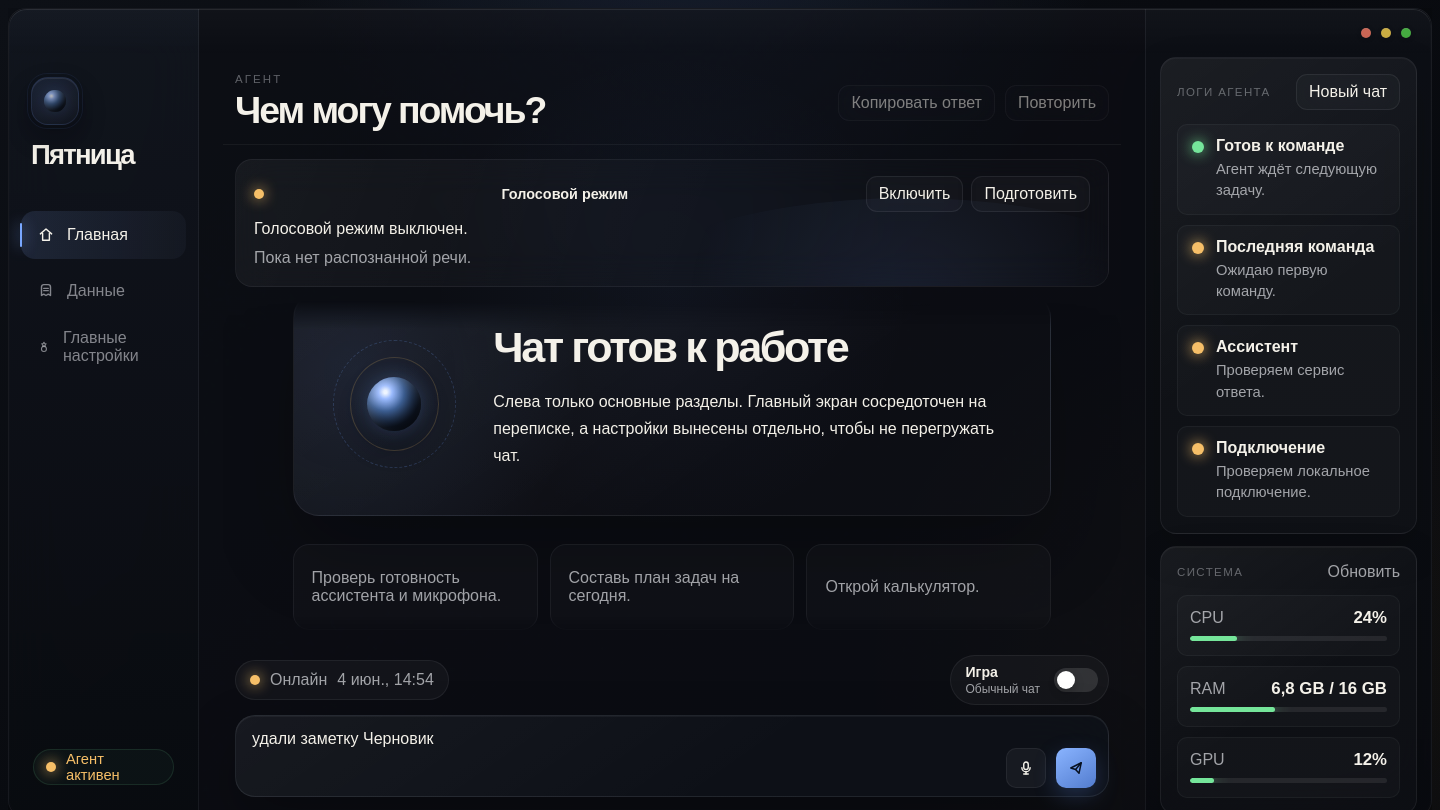
Test: FridayApp › shows confirmation for irreversible agent actions and applies it on approval
The width and height of the screenshot is (1440, 810).
Click the button named "Отправить". click: x=1076, y=768
box: [1056,748,1096,788]
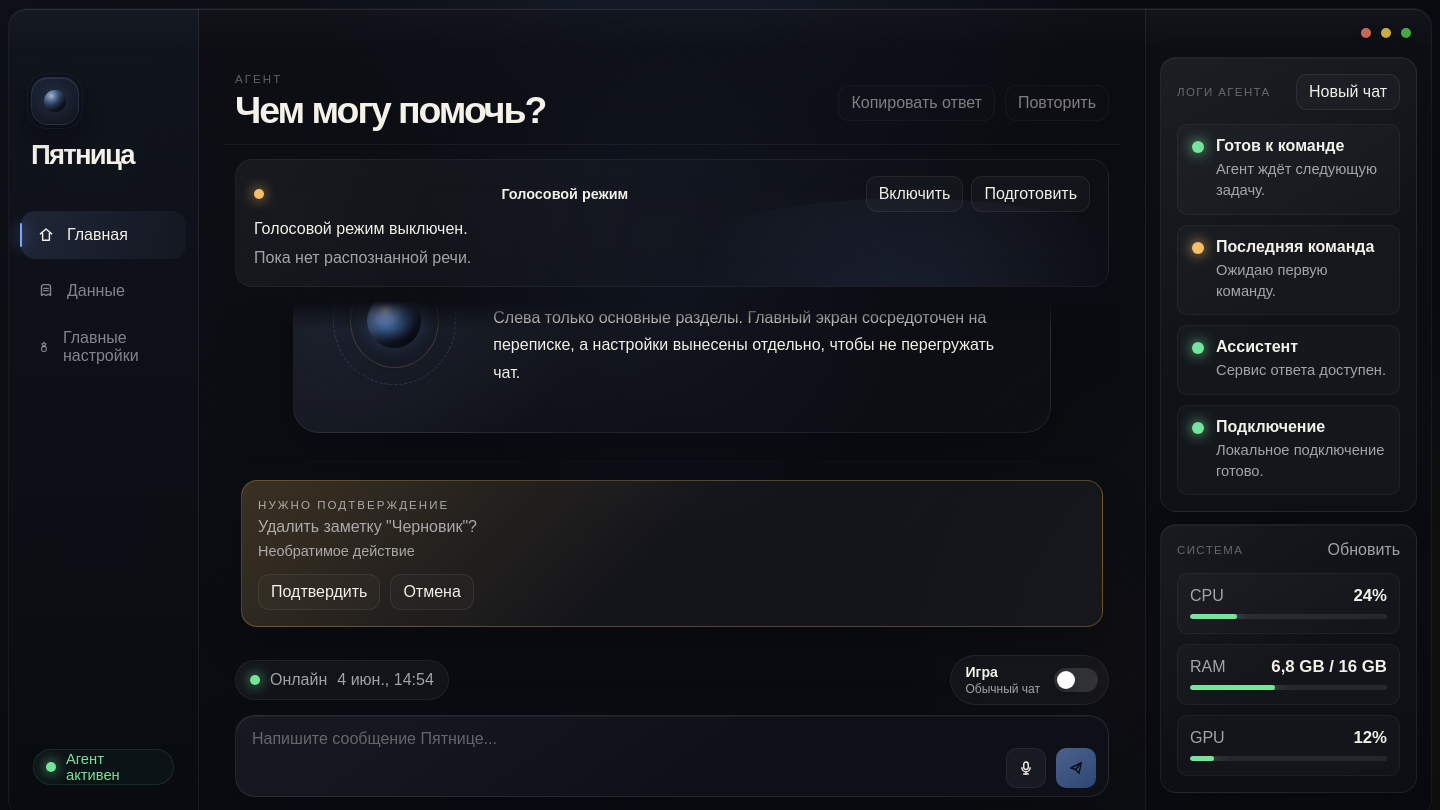
Expected: the text "Удалить заметку \"Черновик\"?" is shown, [258,518,477,535]
Expected: the text "Необратимое действие" is shown, [258,543,415,559]
Click the button "Подтвердить". click: x=319, y=592
box: [258,574,380,610]
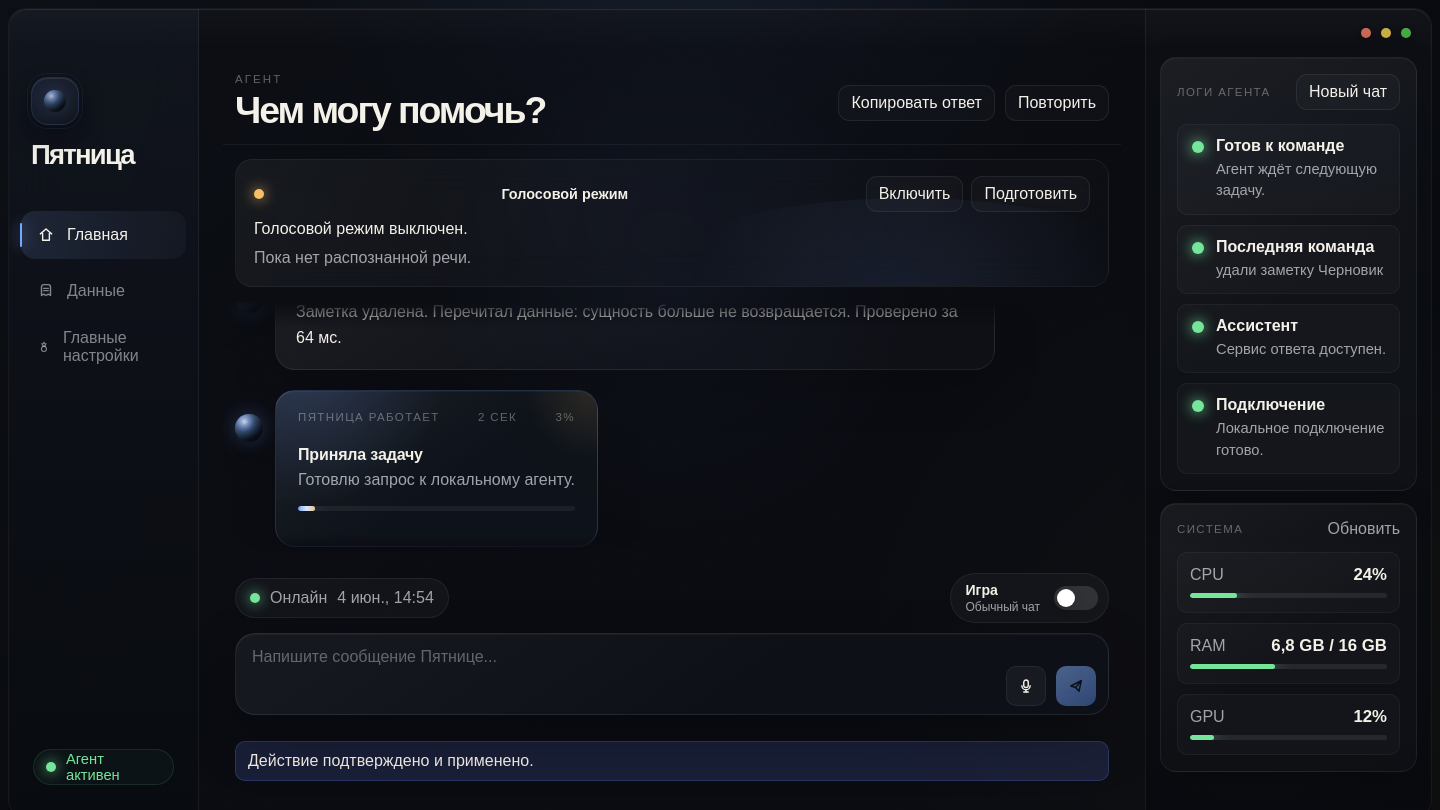
Expected: the text "Заметка удалена" is shown, [296,303,962,346]
